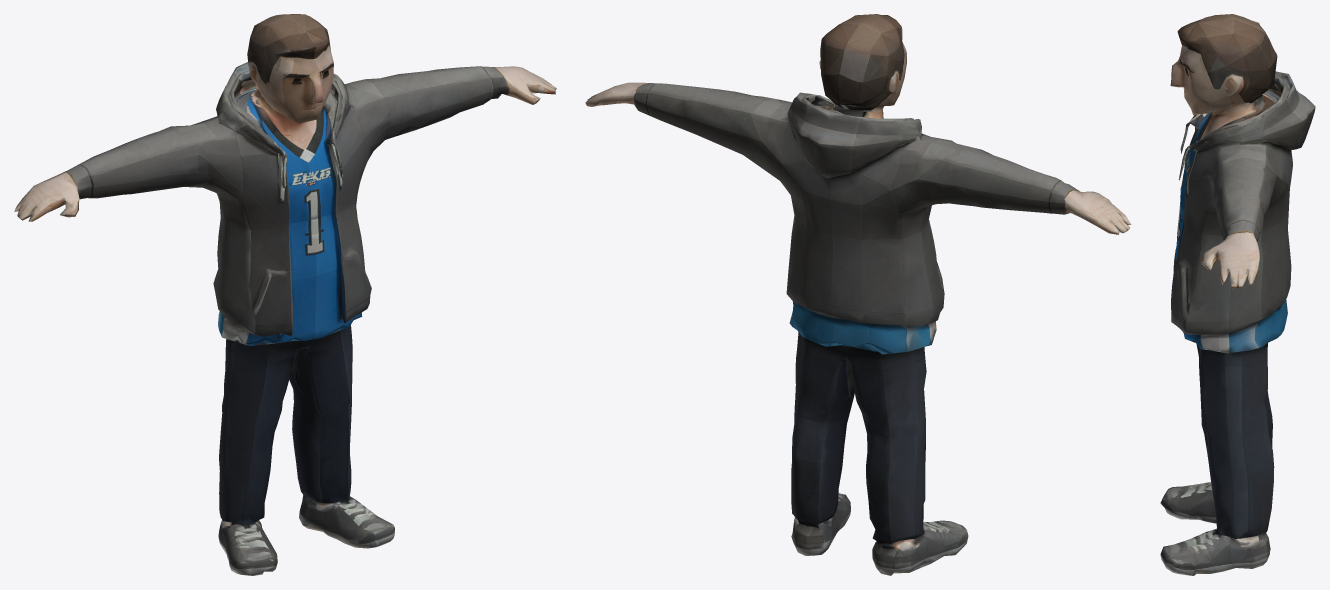
The model's file is Low Poly Character.fbx.
3 renders of one model, left to right at view 1: azimuth 30°, elevation 25°; view 2: azimuth 150°, elevation 25°; view 3: azimuth 270°, elevation 25°, orthographic.
Visible parts, largest first — view 1: texture_mapping; view 2: texture_mapping; view 3: texture_mapping.
Boxes of the visible parts, box(x1,y1,x2,y2) form: texture_mapping: box(14, 14, 556, 575); texture_mapping: box(585, 14, 1131, 575); texture_mapping: box(1160, 14, 1315, 575).
Size of the model in its own units: 1.01 by 0.2536 by 0.9453.
1 material, 1 textured.
